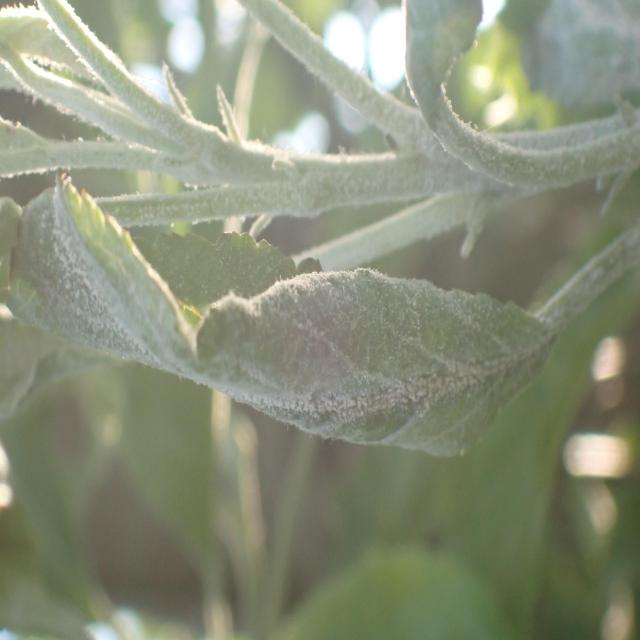Powdery_mildew: (0, 170, 554, 457), (382, 0, 581, 174)
